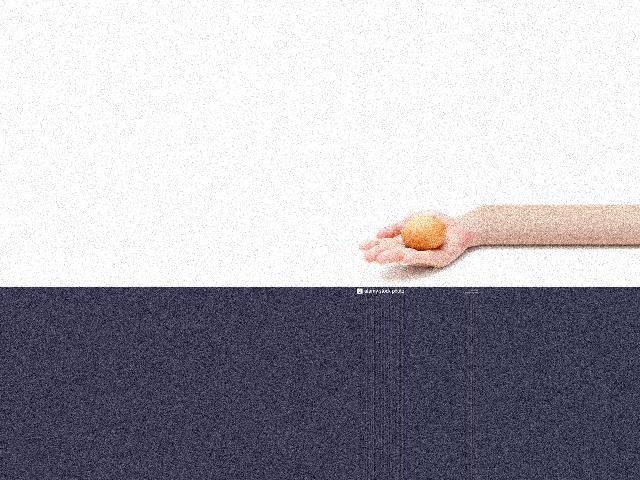egg: (402, 214, 447, 250)
